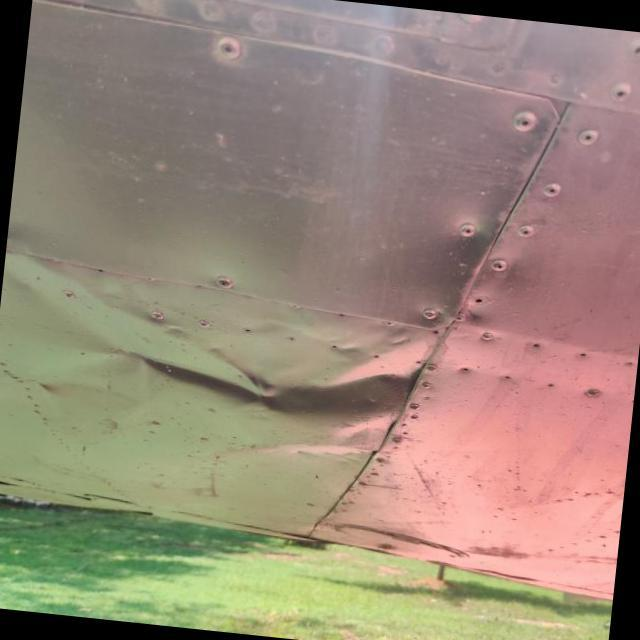Dent: (82, 227, 455, 516)
